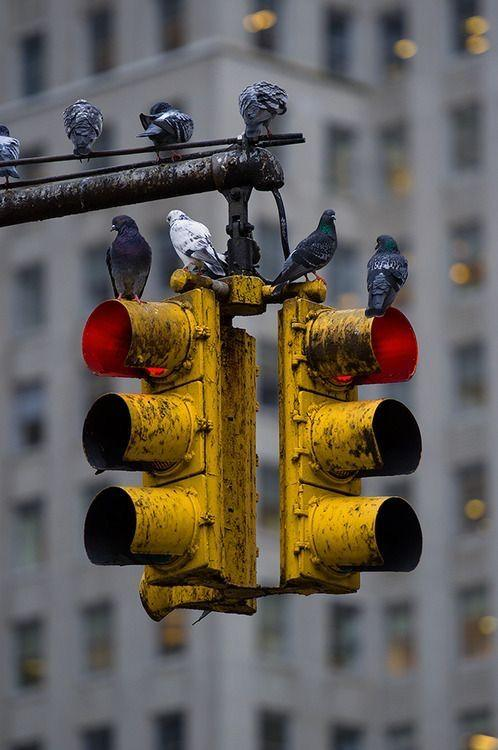red: (64, 288, 260, 610)
